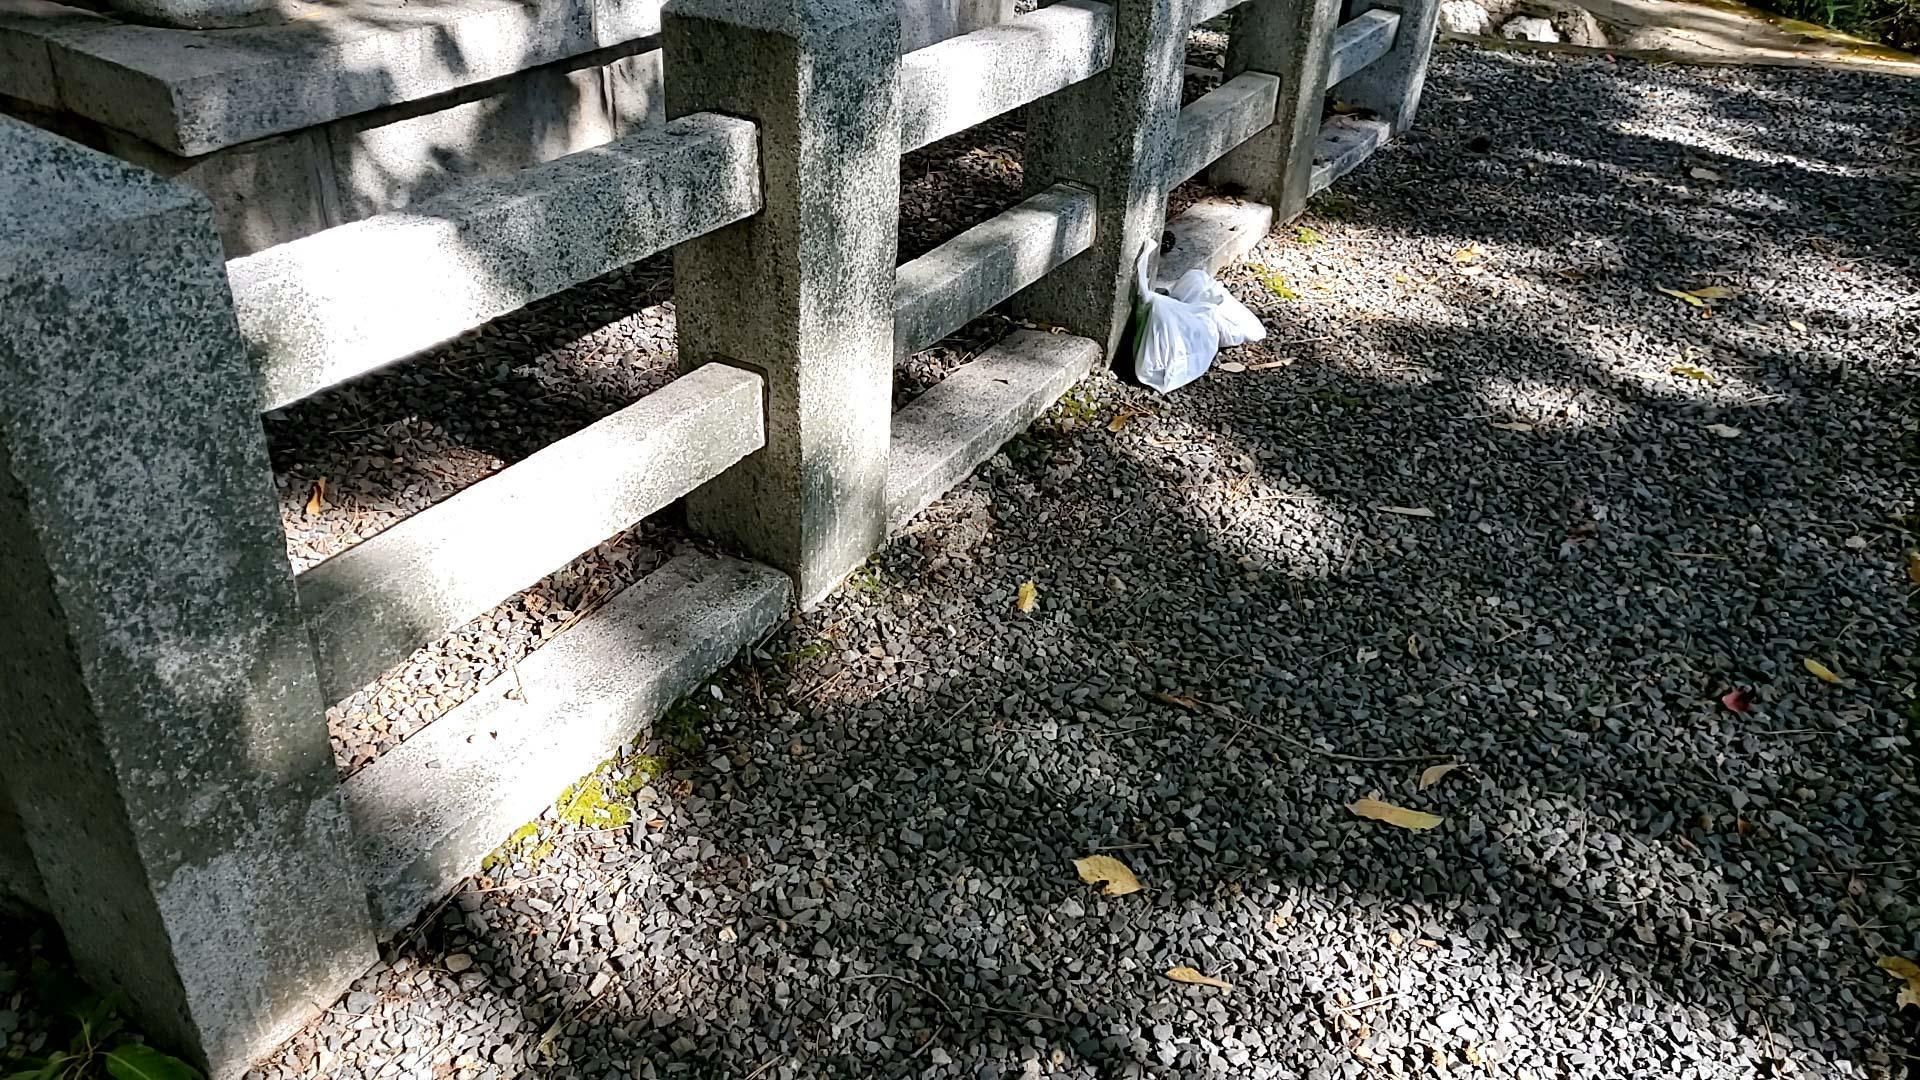white_bag: (1129, 239, 1228, 396), (1168, 266, 1269, 349)
